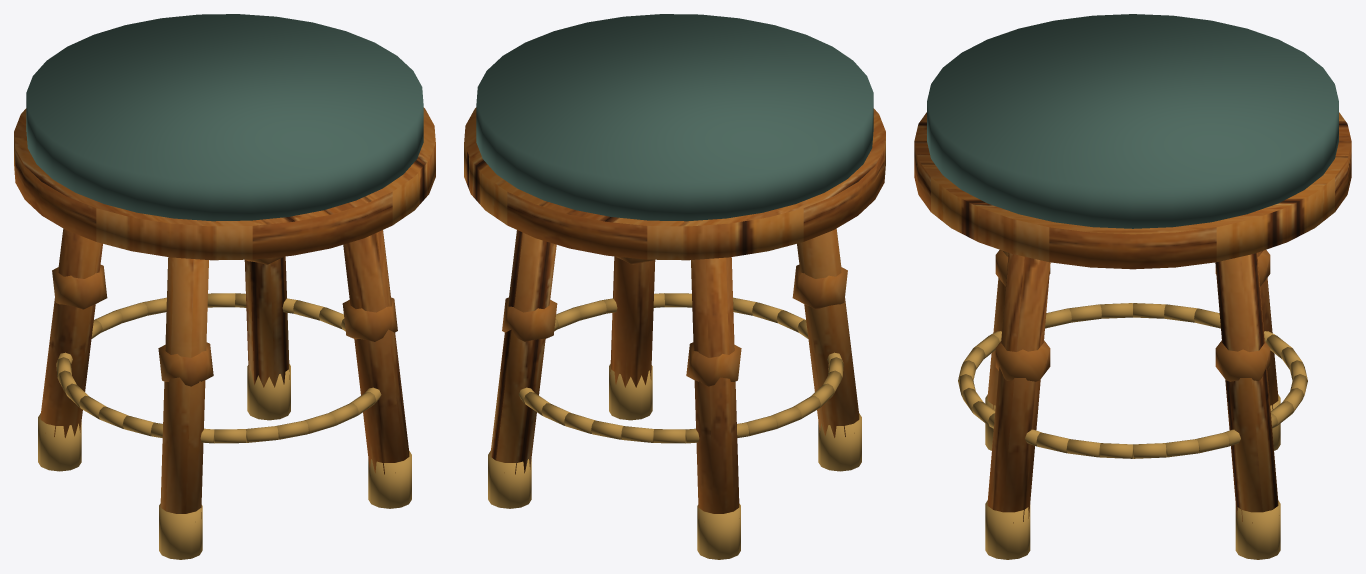
The picture shows the model from 3 angles, left to right: view 1: azimuth 30°, elevation 25°; view 2: azimuth 150°, elevation 25°; view 3: azimuth 270°, elevation 25°; orthographic projection. The views are drawn at different scales.
Parts seen in each view (by area): view 1: clockshop_felt, clockshop_walnut, clockshop_brass; view 2: clockshop_felt, clockshop_walnut, clockshop_brass; view 3: clockshop_felt, clockshop_walnut, clockshop_brass.
Boxes of the visible parts, <box> form: clockshop_felt: <box>26,14,423,221</box>; clockshop_walnut: <box>14,107,435,518</box>; clockshop_brass: <box>38,293,411,559</box>; clockshop_felt: <box>476,14,873,221</box>; clockshop_walnut: <box>464,107,885,518</box>; clockshop_brass: <box>488,293,861,559</box>; clockshop_felt: <box>927,14,1338,228</box>; clockshop_walnut: <box>914,112,1351,523</box>; clockshop_brass: <box>958,303,1307,559</box>.
Bounding box in the file's own units: 0.68 × 0.68 × 0.68.
3 materials, 1 textured.
